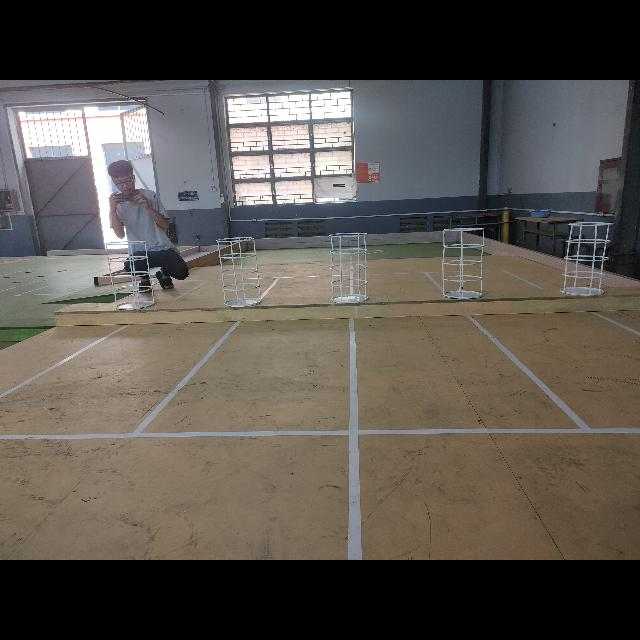S: (106, 239, 156, 310), (217, 237, 263, 307), (330, 232, 368, 304)
